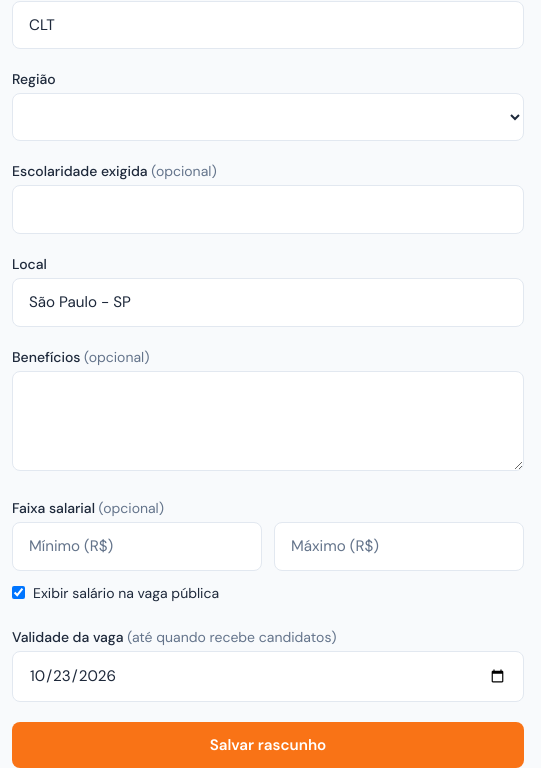
Test case: JobEditForm — mode="draft-edit" (USP-054/EMP-2, novo) › updateJobDraft falha (ex.: CONFLICT) → mostra erro inline
The width and height of the screenshot is (541, 768).
(page scrolled)
Click the button "Salvar rascunho".
click(268, 745)  # box [12, 722, 524, 767]
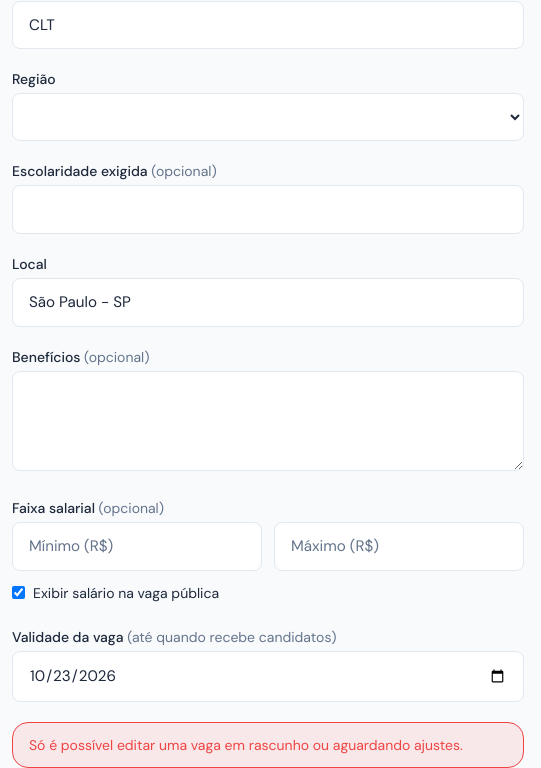
Check: the message reads "Só é possível editar uma vaga em rascunho ou aguardando ajustes.", box [29, 736, 463, 754]
